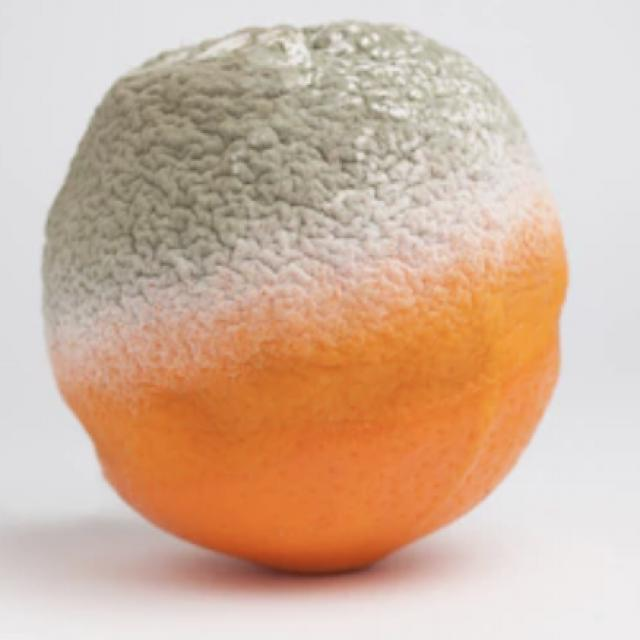rotten-orange: (37, 27, 569, 569)
